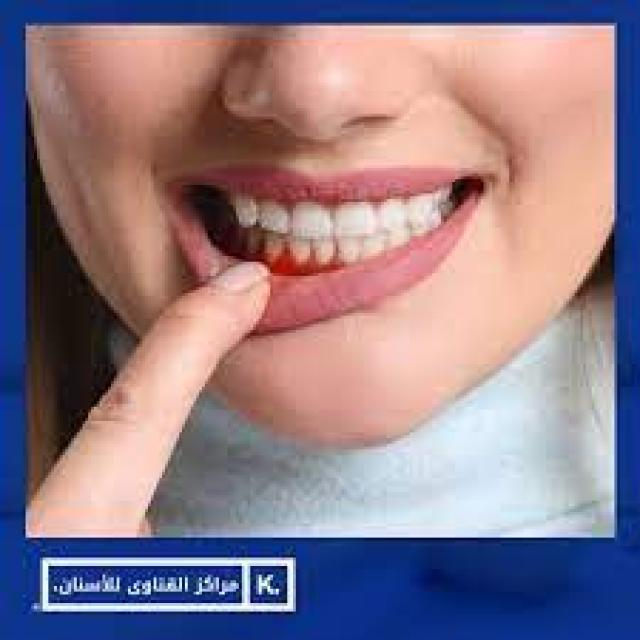tooth: (324, 196, 370, 239), (288, 196, 324, 236), (276, 228, 310, 264), (256, 199, 284, 233), (310, 230, 336, 264), (336, 230, 361, 264), (430, 185, 455, 213), (236, 199, 256, 225), (381, 202, 404, 216), (267, 230, 276, 264), (407, 199, 421, 216)
